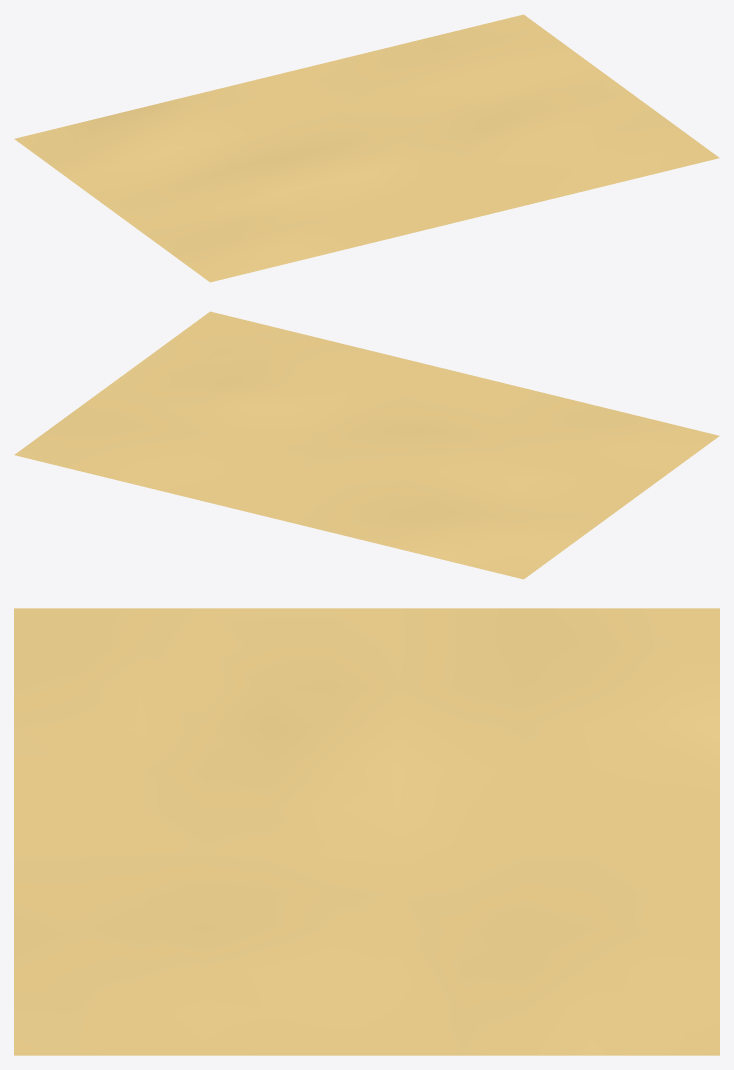
3 renders of one model, top to bottom at view 1: azimuth 30°, elevation 25°; view 2: azimuth 150°, elevation 25°; view 3: azimuth 270°, elevation 25°, orthographic. The views are drawn at different scales.
Parts seen in each view (by area): view 1: Plane; view 2: Plane; view 3: Plane.
Part boxes in pixels (box(x1,y1,x2,y2)): Plane: box(14, 14, 719, 282); Plane: box(14, 311, 719, 579); Plane: box(14, 608, 719, 1055).
Size of the model in its own units: 60 by 0.4133 by 40.
